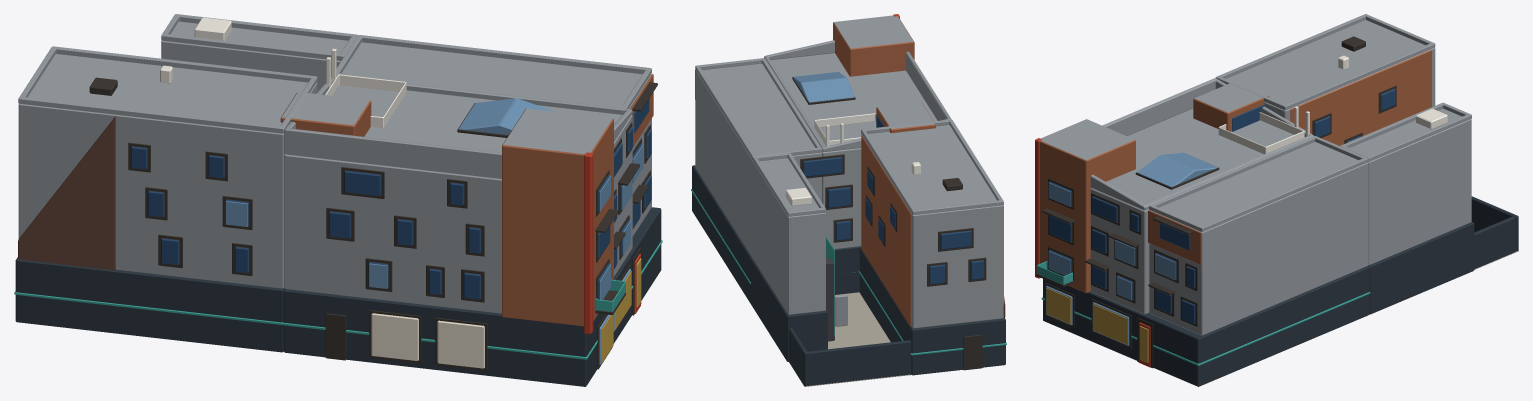
Rendered from 92-south-park.glb.
3 views of the same model, side by side, from view 1: azimuth 30°, elevation 25°; view 2: azimuth 150°, elevation 25°; view 3: azimuth 270°, elevation 25° (orthographic). The views are drawn at different scales.
Visible parts, largest first — view 1: grp_Toy_steel, grp_Toy_bluestone, grp_Toy_rust_Toy_steel, grp_Toy_ink, B_shingle, grp_Toy_glass, grp_Toy_sand, grp_Toy_trim, grp_Toy_glass_Glow, grp_Toy_teal, grp_Toy_glassl, grp_Toy_ioorange (+1 smaller); view 2: grp_Toy_steel, grp_Toy_bluestone, grp_Toy_rust, grp_Toy_rust_Toy_steel, grp_Toy_glass, grp_Toy_ink, court_floor, grp_Toy_trim, grp_Toy_glassl, grp_Toy_teal, grp_Toy_roofd; view 3: grp_Toy_steel, grp_Toy_bluestone, grp_Toy_rust_Toy_steel, grp_Toy_rust, grp_Toy_ink, grp_Toy_glass, grp_Toy_glassl, grp_Toy_trim, grp_Toy_gold_Glow, grp_Toy_glass_Glow, grp_Toy_teal, grp_Toy_ioorange.
Boxes of the visible parts, x1,y1,x2,y2 form: grp_Toy_steel: (18,14,651,313); grp_Toy_bluestone: (15,207,661,386); grp_Toy_rust_Toy_steel: (280,92,613,326); grp_Toy_ink: (89,77,657,371); B_shingle: (18,116,115,270); grp_Toy_glass: (131,99,651,299); grp_Toy_sand: (371,313,484,368); grp_Toy_trim: (160,17,406,127); grp_Toy_glass_Glow: (225,144,643,299); grp_Toy_teal: (14,240,662,359); grp_Toy_glassl: (459,98,631,365); grp_Toy_ioorange: (584,152,640,333); grp_Toy_steel: (695,40,1003,328); grp_Toy_bluestone: (692,165,1005,386); grp_Toy_rust: (695,69,911,326); grp_Toy_rust_Toy_steel: (833,15,935,133); grp_Toy_glass: (803,115,983,284); grp_Toy_ink: (792,77,986,370); court_floor: (789,292,911,386); grp_Toy_trim: (785,113,920,206); grp_Toy_glassl: (793,72,854,102); grp_Toy_teal: (691,189,1006,355); grp_Toy_roofd: (826,258,834,341); grp_Toy_steel: (1090,14,1471,335); grp_Toy_bluestone: (1043,196,1518,386); grp_Toy_rust_Toy_steel: (1040,81,1269,293); grp_Toy_rust: (1148,50,1431,264); grp_Toy_ink: (1036,36,1396,368); grp_Toy_glass: (1049,89,1395,323); grp_Toy_glassl: (1046,152,1217,345); grp_Toy_trim: (1218,55,1447,154); grp_Toy_gold_Glow: (1046,288,1148,362); grp_Toy_glass_Glow: (1048,182,1175,300); grp_Toy_teal: (1036,261,1370,365); grp_Toy_ioorange: (1035,138,1150,367).
Bounding box in the file's own units: 31.86 × 13.28 × 32.05.
